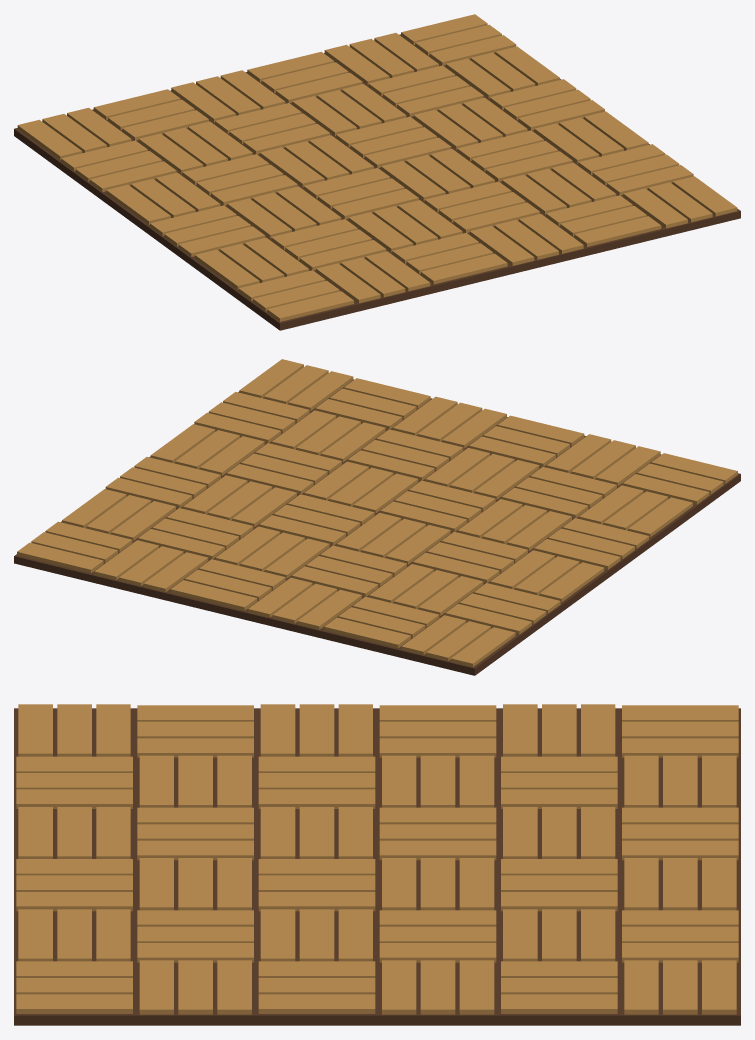
The model's file is SM_LPI_Floor_ParquetOak_03.fbx.
3 views of the same model, one above another, from view 1: azimuth 30°, elevation 25°; view 2: azimuth 150°, elevation 25°; view 3: azimuth 270°, elevation 25° (orthographic). The views are drawn at different scales.
Visible parts, largest first — view 1: SM_LPI_Floor_ParquetOak_03; view 2: SM_LPI_Floor_ParquetOak_03; view 3: SM_LPI_Floor_ParquetOak_03.
Part boxes in pixels (box(x1,y1,x2,y2)): SM_LPI_Floor_ParquetOak_03: box(14, 14, 740, 330); SM_LPI_Floor_ParquetOak_03: box(14, 359, 740, 675); SM_LPI_Floor_ParquetOak_03: box(14, 704, 740, 1025).
Size of the model in its own units: 2 by 0.045 by 2.
